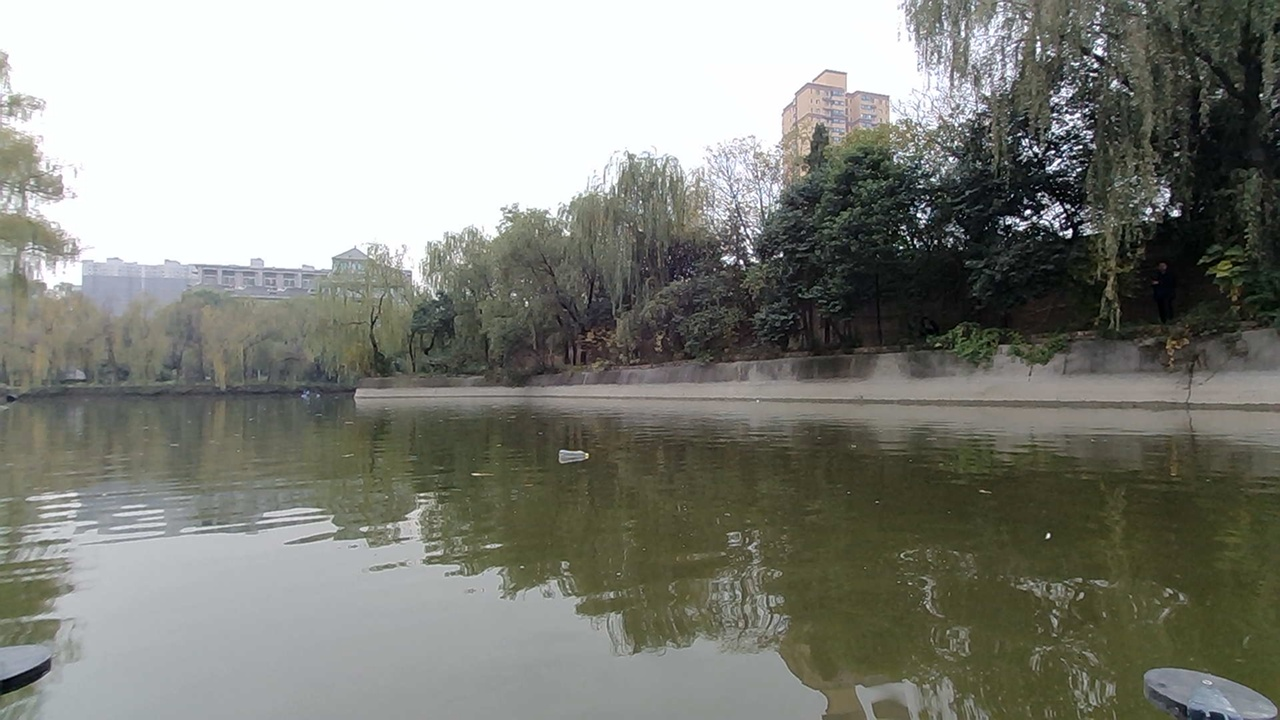bottle: (552, 432, 604, 469)
